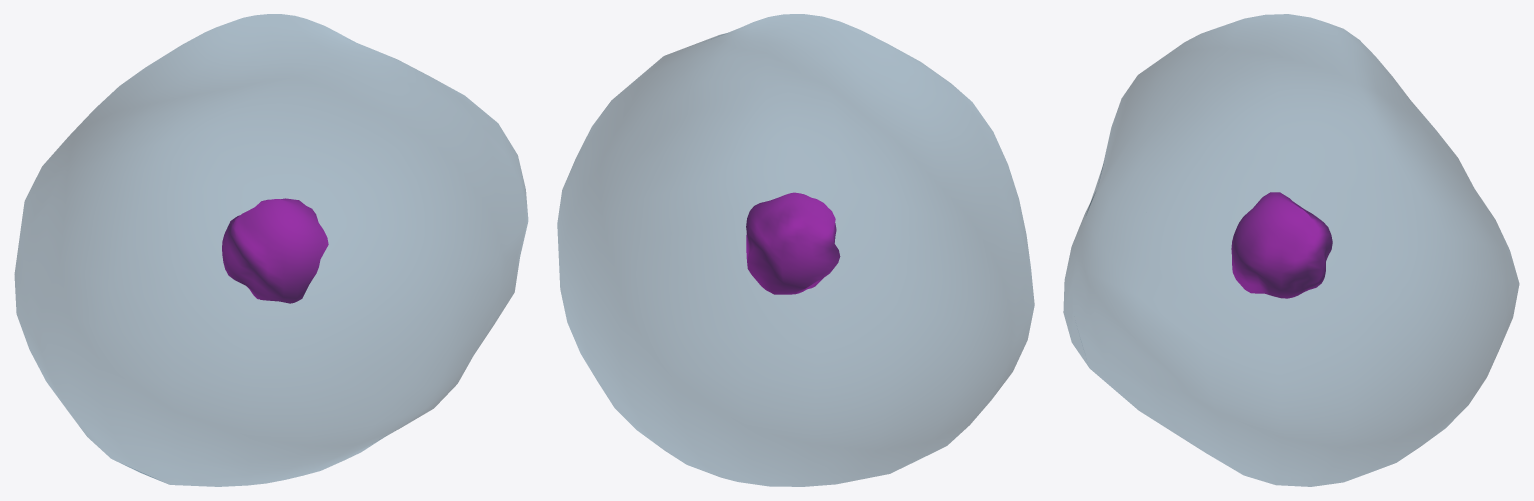
File: CellSimple.fbx
3 views of the same model, side by side, from view 1: azimuth 30°, elevation 25°; view 2: azimuth 150°, elevation 25°; view 3: azimuth 270°, elevation 25° (orthographic). The views are drawn at different scales.
Visible parts, largest first — view 1: Cell; view 2: Cell; view 3: Cell.
Part boxes in pixels (box(x1,y1,x2,y2)): Cell: box(14, 14, 528, 486); Cell: box(557, 14, 1034, 486); Cell: box(1063, 14, 1519, 486).
Size of the model in its own units: 4.7 by 4.37 by 4.23.
